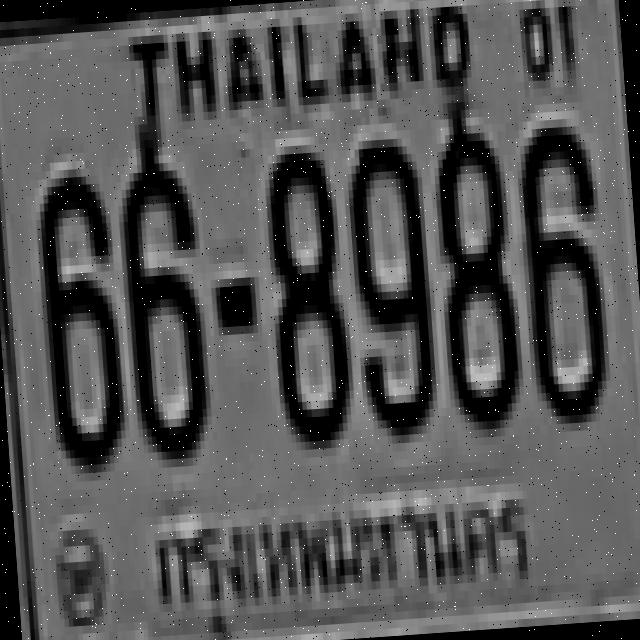6: (114, 145, 209, 453), (514, 117, 608, 417), (32, 167, 122, 467)
8: (258, 143, 348, 443), (430, 115, 517, 423)
9: (340, 129, 434, 429)
Bangkok: (133, 465, 553, 640)
